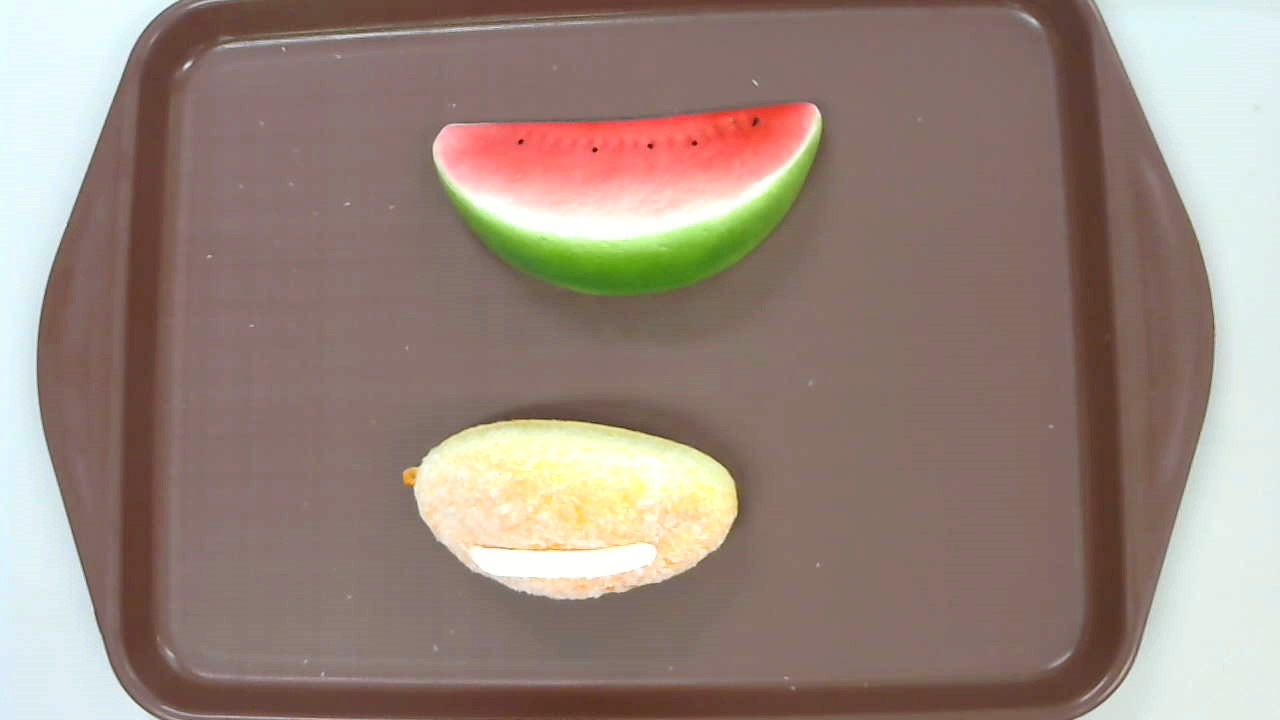coconut: (403, 416, 741, 598)
water melon: (430, 102, 822, 298)
